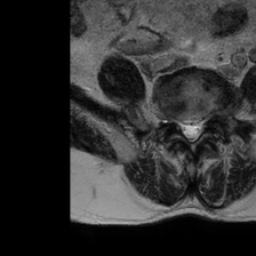CCS_normal: (187, 115, 195, 149)
LFS_stenosis: (205, 105, 214, 128)
LLS_normal: (195, 115, 205, 141)
RFS_stenosis: (171, 109, 181, 131)
RLS_normal: (181, 113, 187, 142)
